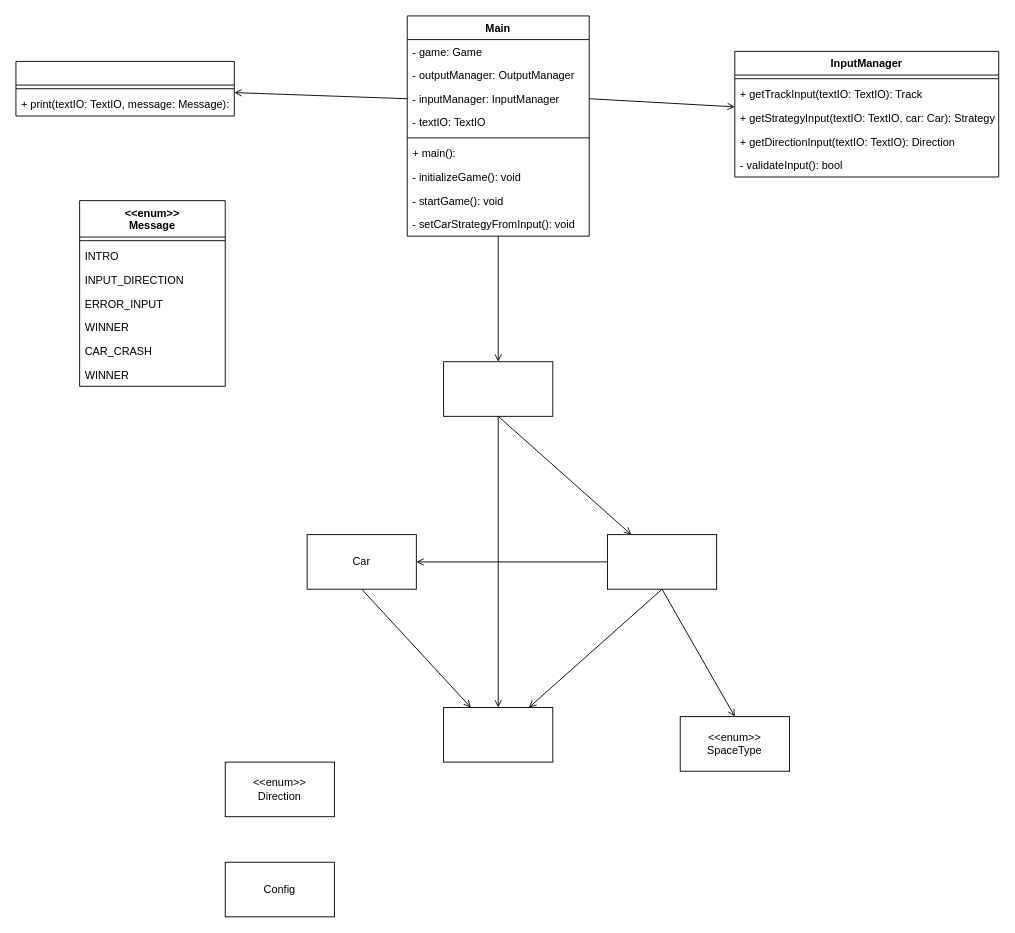
Image size: 1015x933. Some labels were removed from this diagram. Here are the shapes that lost their labels. From the top down, the box of each, then its label:
(15, 61, 234, 116): OutputManager
(443, 361, 553, 416): Game
(607, 534, 717, 589): Track
(443, 707, 553, 762): PostionVector
